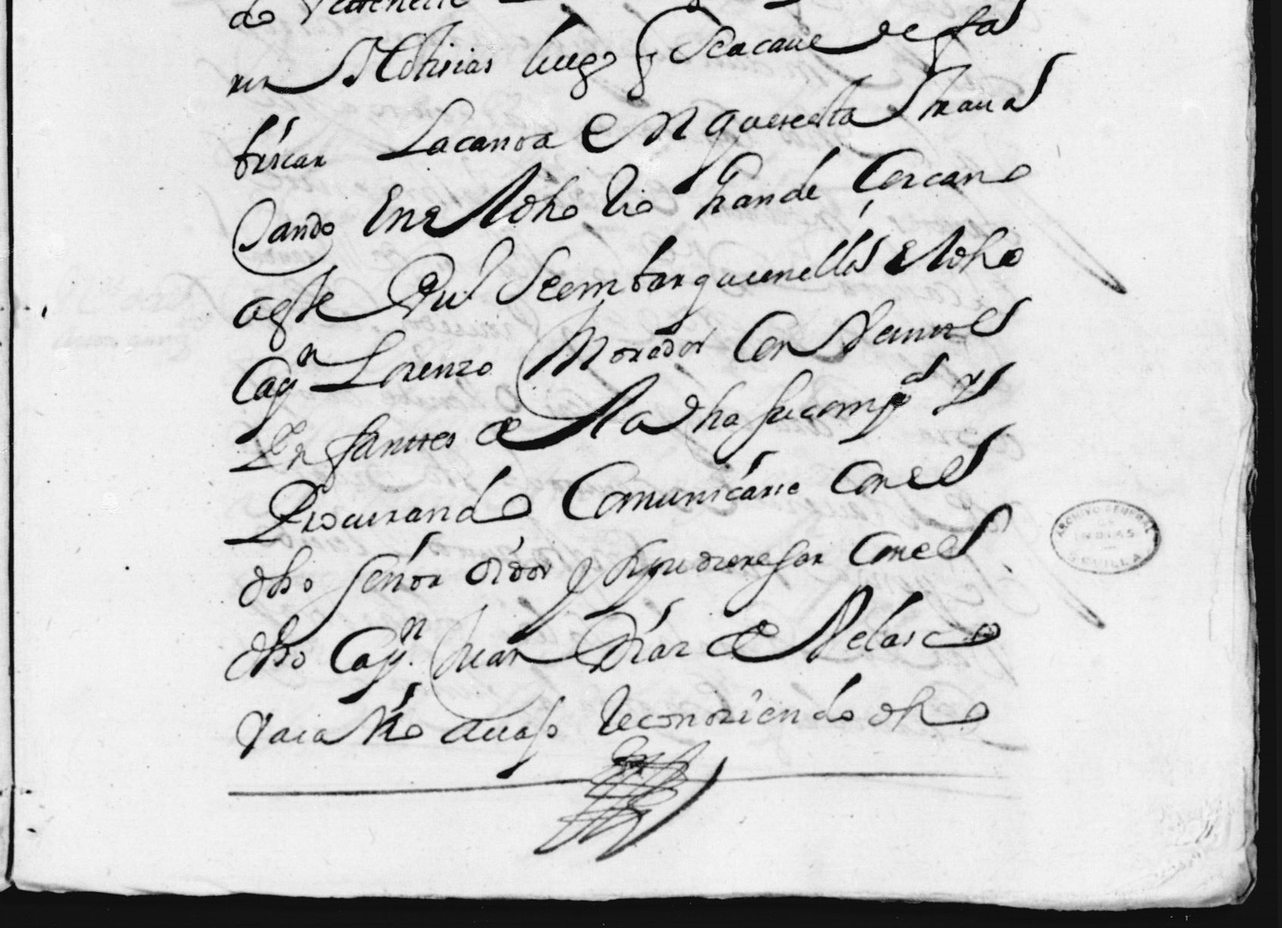lacandon: (376, 97, 567, 160)
